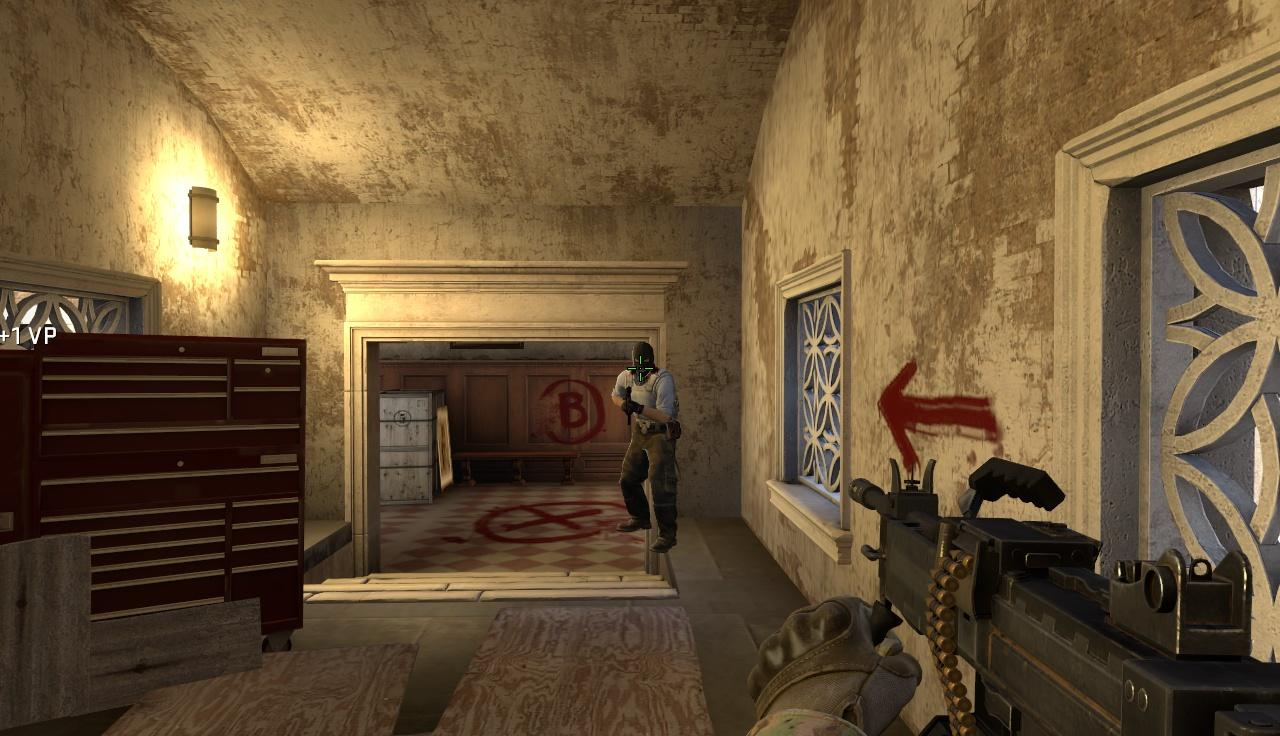rifle: (847, 455, 1280, 736)
tt: (620, 340, 681, 556)
tthead: (630, 340, 655, 375)
